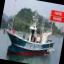fishing boat: (0, 0, 61, 63)
